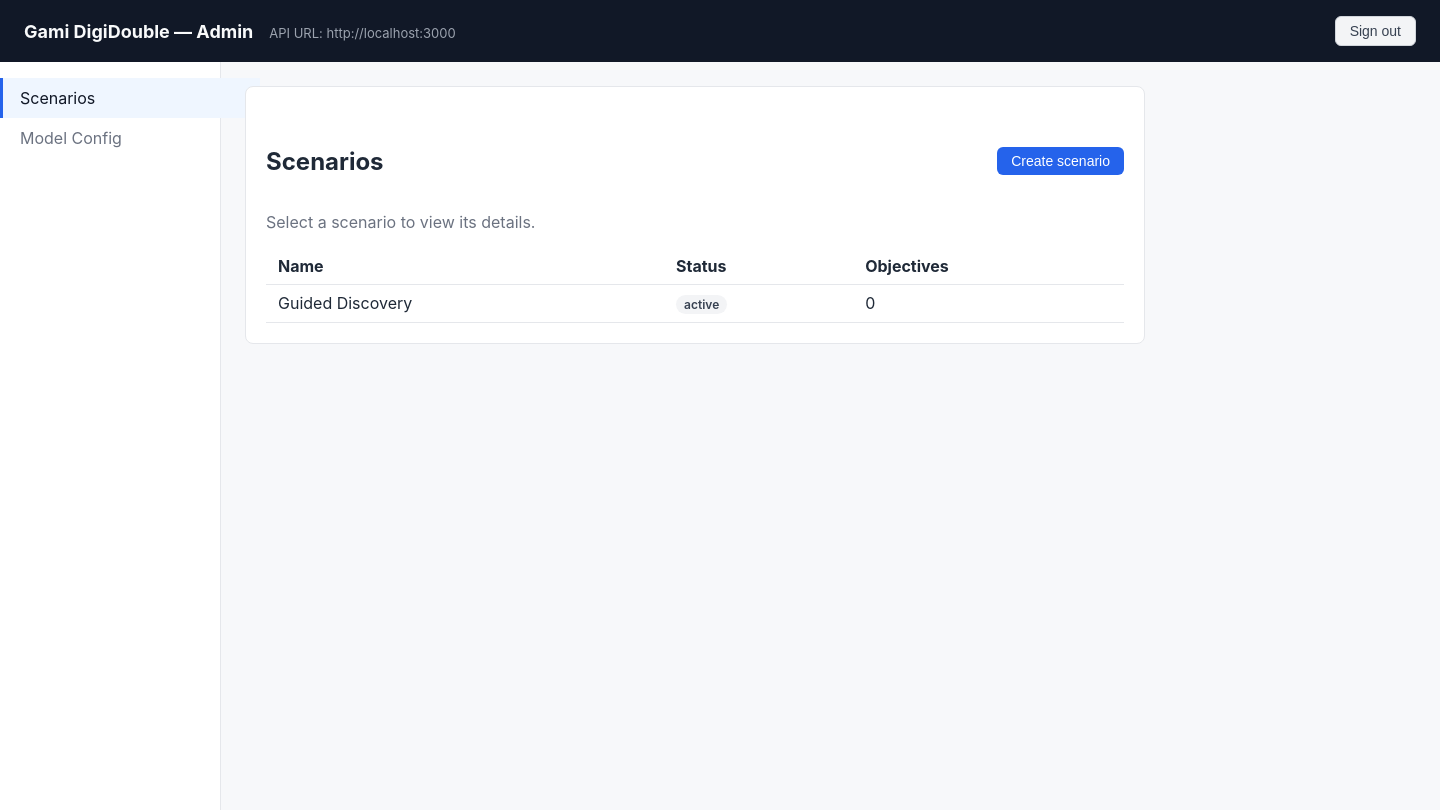
App navigation › opens the model config page from the nav
(page scrolled)
Expected: the link "Guided Discovery" is shown, [278, 293, 412, 313]
Click the link "Model Config" at point(71, 138), box [20, 128, 122, 148]
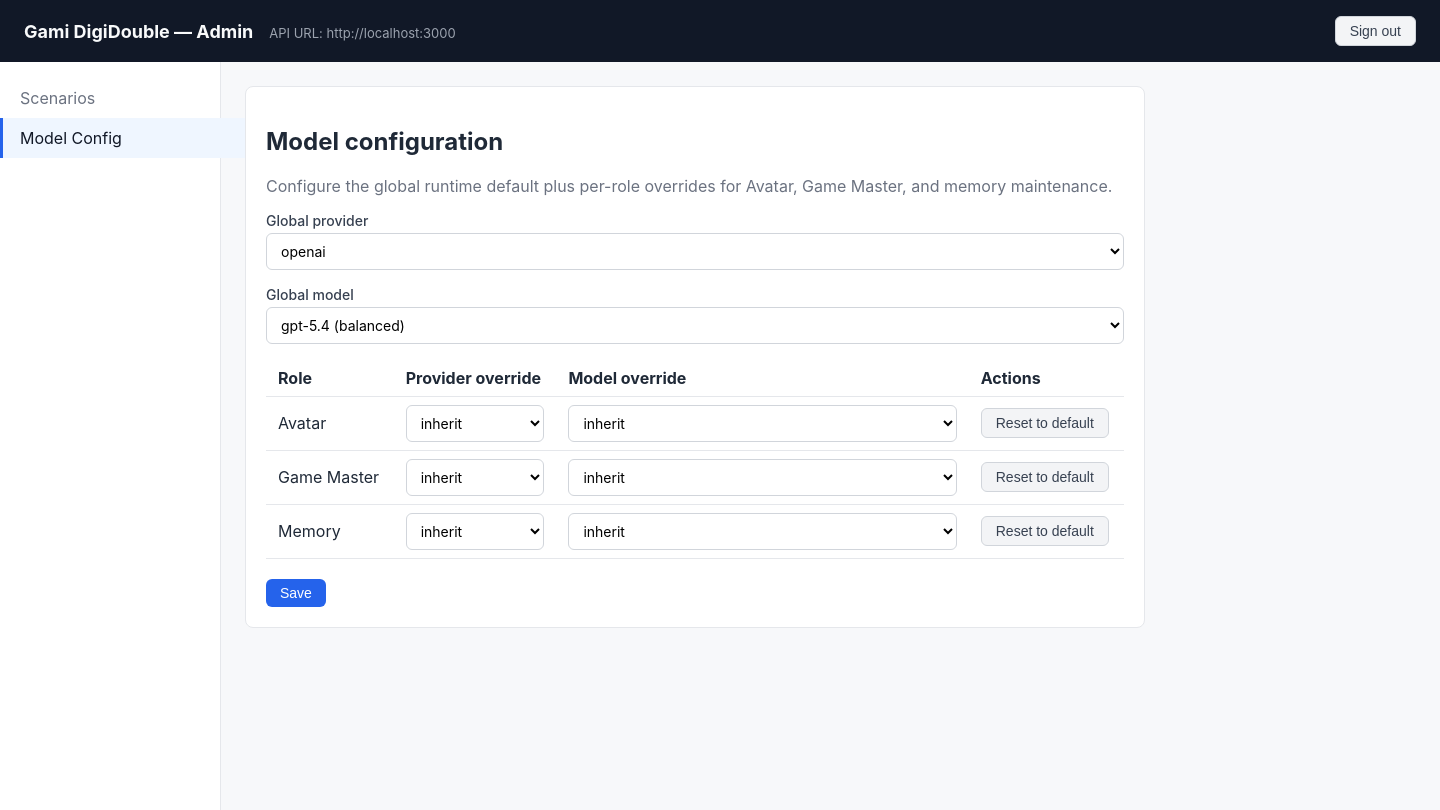
Result: the heading "Model configuration" is shown at [266, 127, 503, 156]
